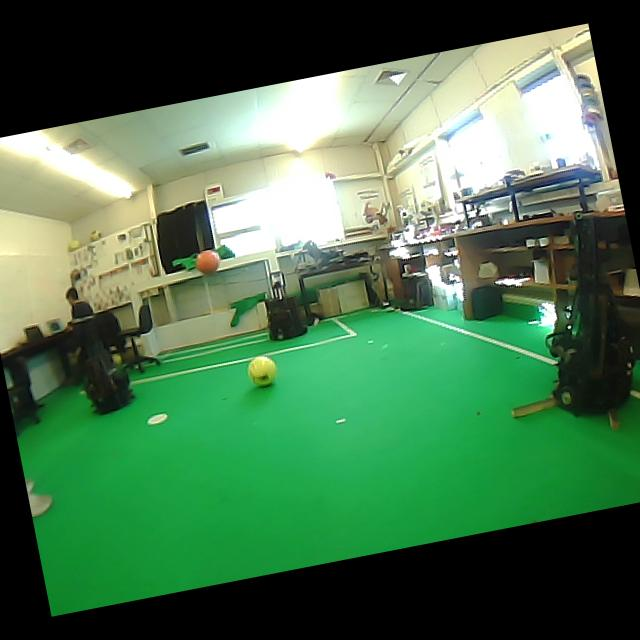ball: (248, 356, 276, 387), (196, 250, 219, 274), (68, 240, 82, 250), (90, 230, 101, 241), (112, 354, 121, 364)
robot: (549, 216, 635, 415), (84, 334, 134, 413), (266, 272, 307, 339)
